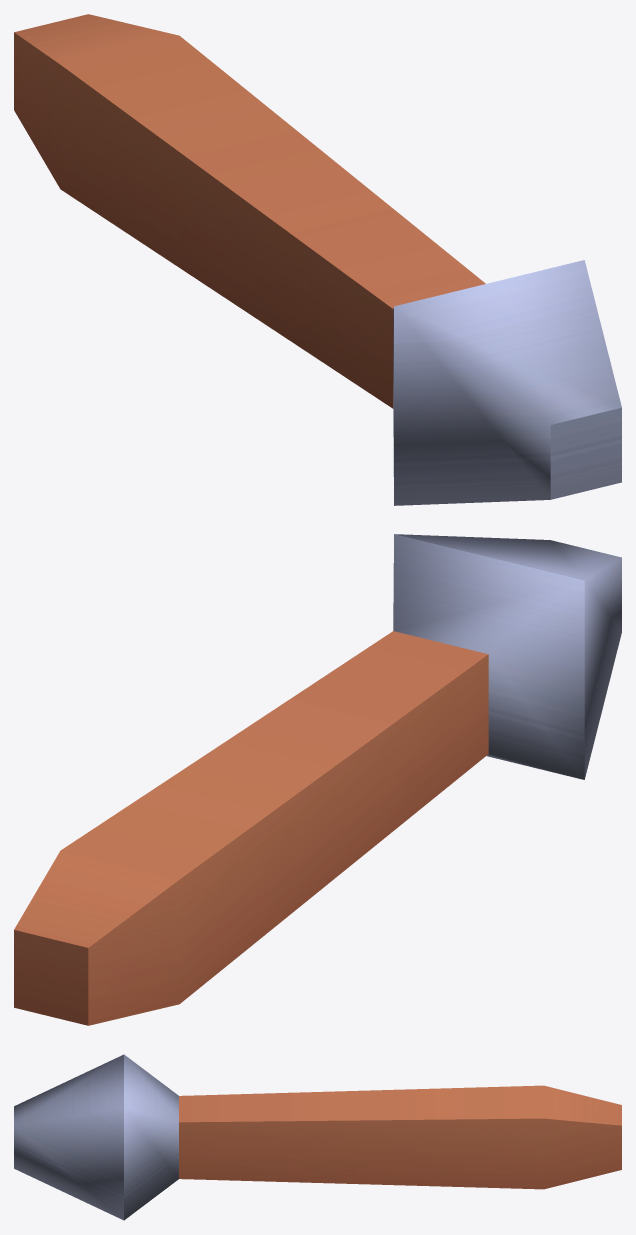
Rendered from p-tower-weapon-ammo-arrow.glb.
3 views of the same model, one above another, from view 1: azimuth 30°, elevation 25°; view 2: azimuth 150°, elevation 25°; view 3: azimuth 270°, elevation 25° (orthographic). The views are drawn at different scales.
Parts seen in each view (by area): view 1: weapon-ammo-arrow; view 2: weapon-ammo-arrow; view 3: weapon-ammo-arrow.
Part boxes in pixels (box(x1,y1,x2,y2)): weapon-ammo-arrow: box(14, 14, 621, 505); weapon-ammo-arrow: box(14, 534, 621, 1025); weapon-ammo-arrow: box(14, 1054, 621, 1220).
Size of the model in its own units: 0.1599 by 0.1599 by 0.7776.
1 material, 1 textured.
